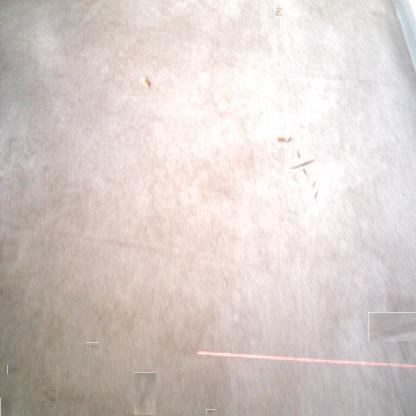dirty: (139, 75, 151, 89), (277, 135, 292, 143), (276, 7, 284, 17)
mark: (377, 302, 416, 350), (134, 372, 156, 415), (293, 154, 312, 173), (0, 398, 11, 416), (41, 388, 55, 402), (311, 180, 319, 200), (87, 341, 98, 351), (7, 364, 18, 374), (207, 408, 214, 415)
